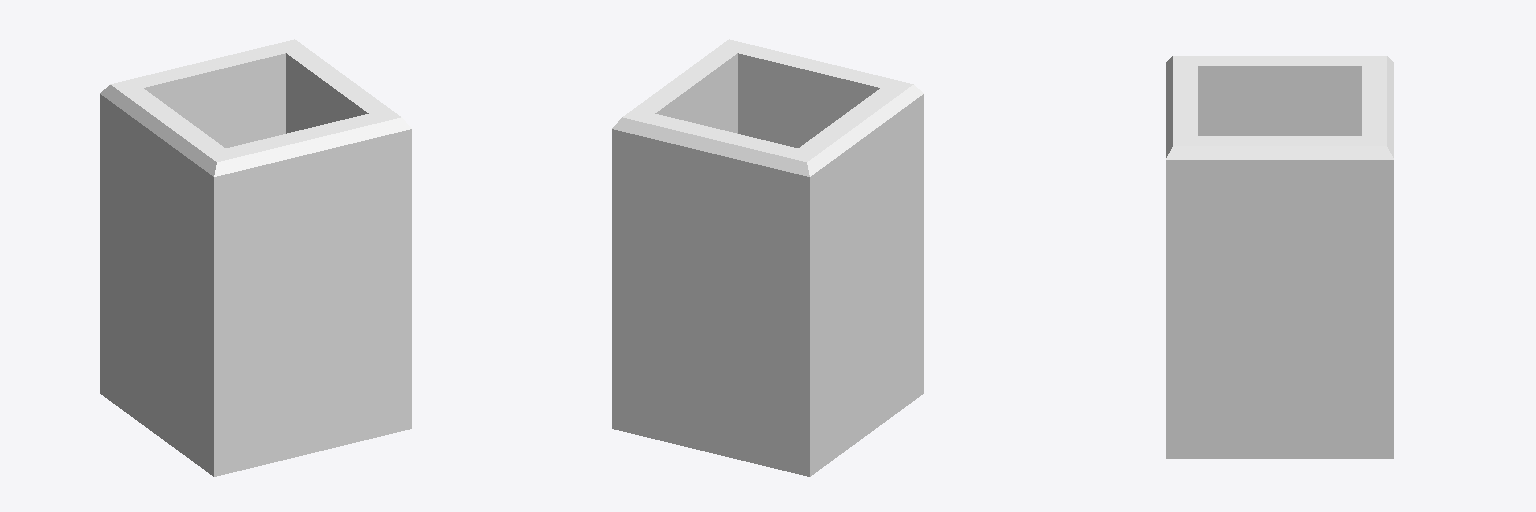
File: kosz_beton.obj
The picture shows the model from 3 angles: view 1: azimuth 30°, elevation 25°; view 2: azimuth 150°, elevation 25°; view 3: azimuth 270°, elevation 25°; orthographic projection.
Visible parts, largest first — view 1: kosz_betonowy; view 2: kosz_betonowy; view 3: kosz_betonowy.
Boxes of the visible parts, x1,y1,x2,y2 form: kosz_betonowy: [100, 39, 411, 476]; kosz_betonowy: [612, 39, 923, 476]; kosz_betonowy: [1166, 56, 1393, 458].
Bounding box in the file's own units: 45.57 × 68.22 × 45.57.